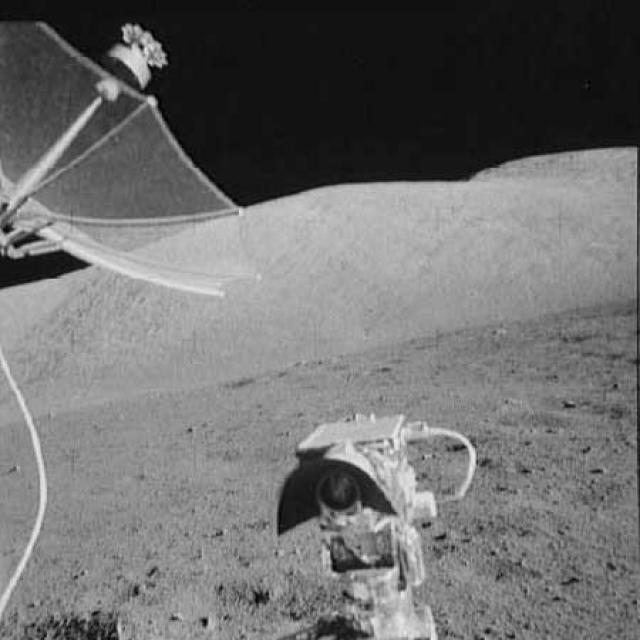artifact: (1, 22, 248, 300), (265, 401, 485, 639), (0, 351, 64, 639)
crater: (542, 394, 634, 422)
